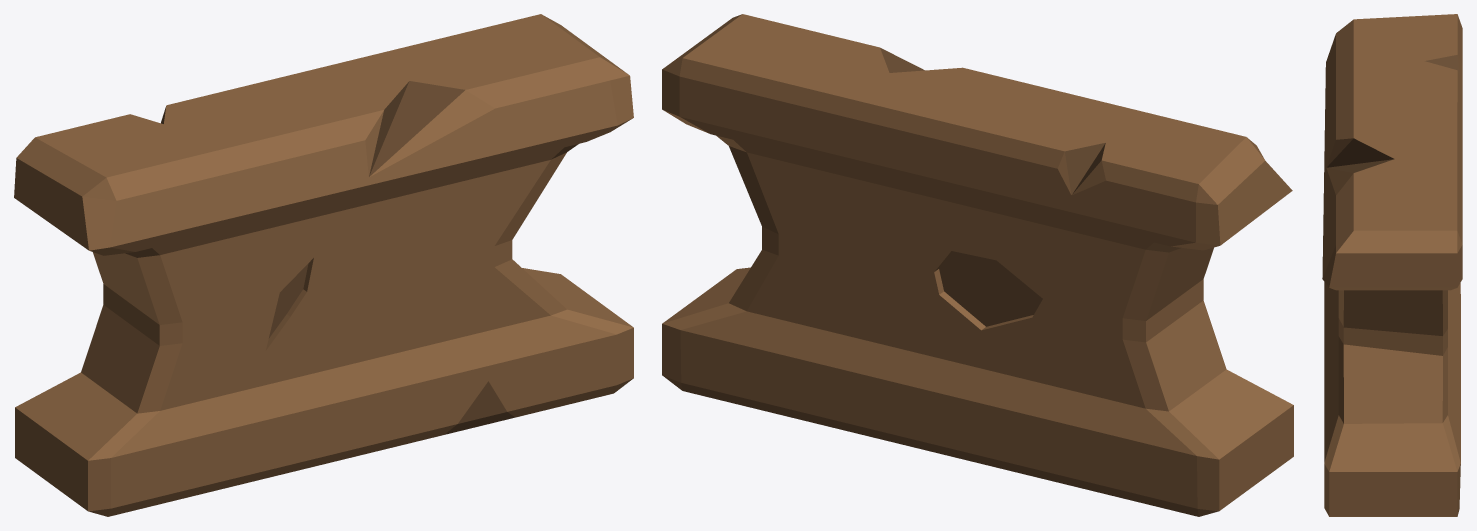
Rendered from Ruin_8_Light_Brown.fbx.
3 views of the same model, side by side, from view 1: azimuth 30°, elevation 25°; view 2: azimuth 150°, elevation 25°; view 3: azimuth 270°, elevation 25° (orthographic). The views are drawn at different scales.
Parts seen in each view (by area): view 1: Ruin_8_Light_Brown; view 2: Ruin_8_Light_Brown; view 3: Ruin_8_Light_Brown.
Boxes of the visible parts, <box> form: Ruin_8_Light_Brown: <box>14,14,633,516</box>; Ruin_8_Light_Brown: <box>662,14,1293,516</box>; Ruin_8_Light_Brown: <box>1322,14,1462,516</box>.
Bounding box in the file's own units: 401 × 228 × 101.
